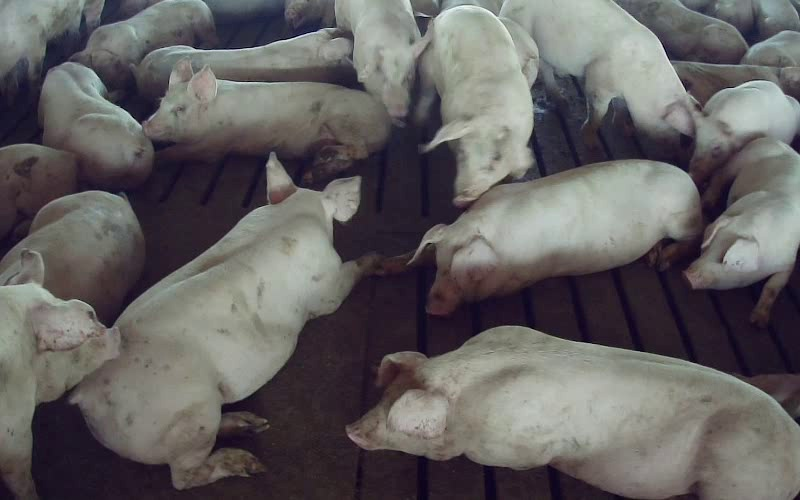pig: (346, 327, 799, 499), (143, 59, 390, 183), (0, 250, 119, 499), (500, 0, 695, 145), (684, 138, 799, 326), (0, 191, 144, 324), (134, 28, 355, 100), (38, 62, 153, 189), (71, 0, 217, 89), (335, 0, 431, 124), (688, 81, 799, 184), (616, 0, 747, 63), (671, 61, 799, 104)
